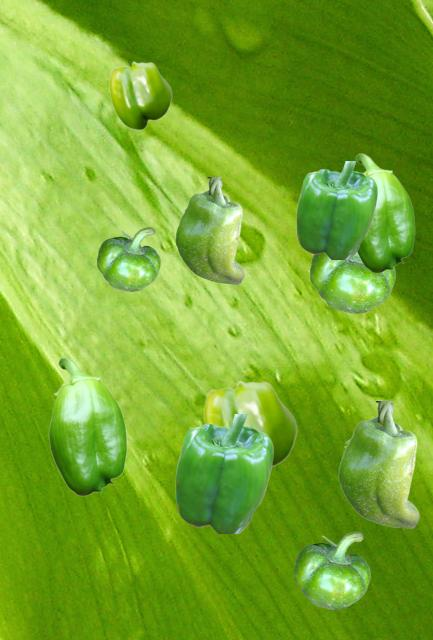bell_pepper: (175, 414, 272, 532), (48, 357, 126, 495), (338, 401, 418, 527), (203, 380, 296, 467), (296, 161, 376, 258), (175, 177, 243, 283), (355, 153, 414, 272), (294, 531, 369, 608), (310, 254, 394, 312), (109, 61, 171, 129), (97, 227, 159, 290)
